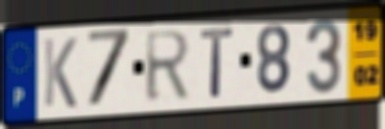3: (304, 16, 343, 97)
7: (85, 26, 134, 113)
8: (255, 22, 294, 96)
K: (42, 36, 79, 111)
R: (143, 27, 193, 105)
T: (198, 25, 237, 101)
